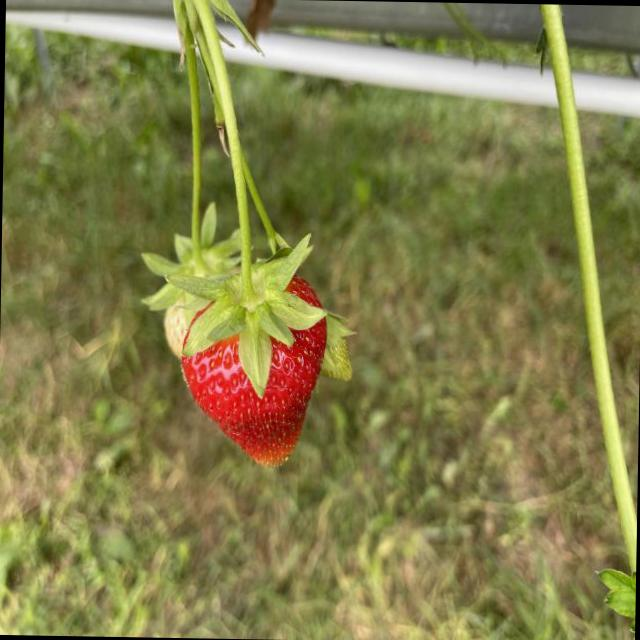stem: (168, 0, 326, 395), (141, 159, 240, 323)
strawberryR: (180, 323, 323, 463)
